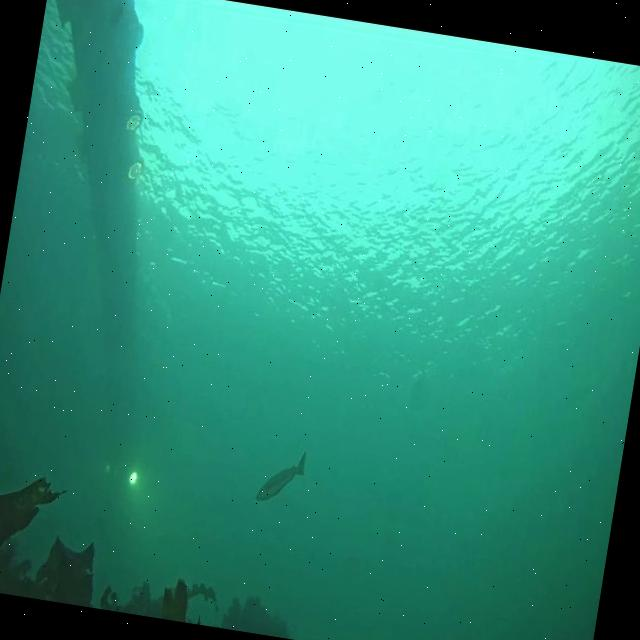fish: (258, 448, 308, 506)
